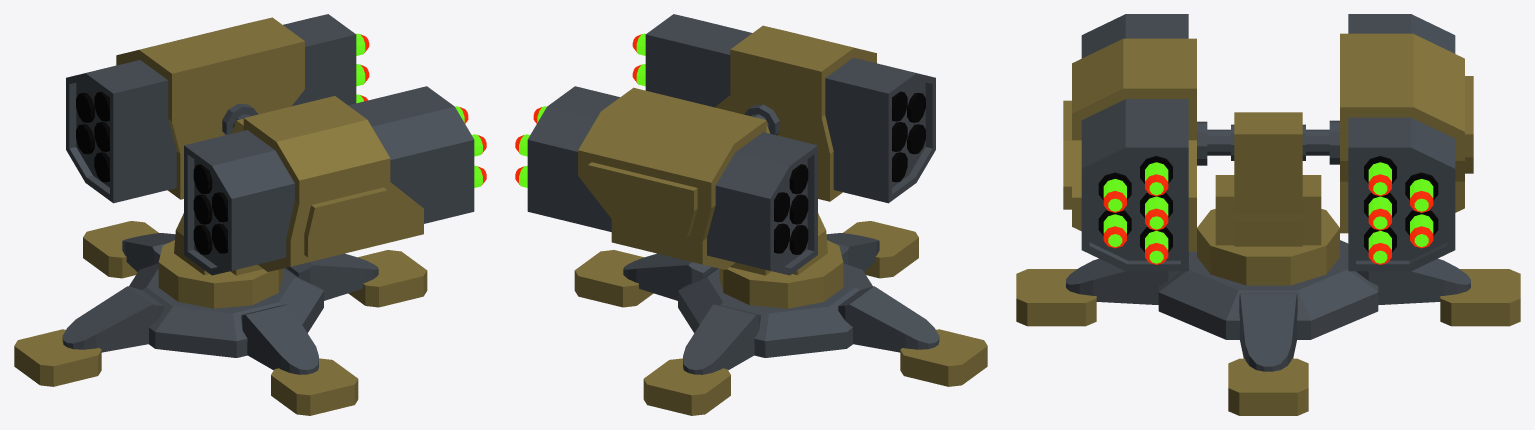
The model's file is rocket.glb.
3 renders of one model, left to right at view 1: azimuth 30°, elevation 25°; view 2: azimuth 150°, elevation 25°; view 3: azimuth 270°, elevation 25°, orthographic. The views are drawn at different scales.
Parts seen in each view (by area): view 1: Cube.009, Cube.006, Cube.008, Cube.010, Plane, Cube.011, Cylinder, Cube.002, Cube.001, Plane.004, Plane.003, Plane.002 (+10 smaller); view 2: Cube.006, Cube.009, Cube.008, Cube.010, Plane, Cube.007, Cylinder, Cube.002, Cube, Plane.001, Plane.003, Plane.002 (+10 smaller); view 3: Cube.009, Cube.006, Cube.008, Cube.010, Plane, Cube.004, Cylinder, Cube.003, Plane.002, Plane.001, Plane.004, Cube (+17 smaller).
Boxes of the visible parts, x1=… form: Cube.009: x1=184, y1=86, x2=474, y2=275; Cube.006: x1=66, y1=14, x2=356, y2=203; Cube.008: x1=116, y1=17, x2=304, y2=199; Cube.010: x1=243, y1=96, x2=423, y2=271; Plane: x1=129, y1=263, x2=323, y2=357; Cube.011: x1=304, y1=187, x2=413, y2=257; Cylinder: x1=158, y1=240, x2=282, y2=308; Cube.002: x1=62, y1=286, x2=163, y2=352; Cube.001: x1=241, y1=304, x2=318, y2=374; Plane.004: x1=271, y1=358, x2=358, y2=415; Plane.003: x1=14, y1=329, x2=101, y2=386; Plane.002: x1=348, y1=250, x2=427, y2=307; Cube.006: x1=527, y1=86, x2=817, y2=275; Cube.009: x1=645, y1=14, x2=935, y2=203; Cube.008: x1=578, y1=87, x2=766, y2=269; Cube.010: x1=715, y1=25, x2=876, y2=201; Plane: x1=678, y1=263, x2=872, y2=357; Cube.007: x1=588, y1=162, x2=697, y2=236; Cylinder: x1=719, y1=240, x2=843, y2=308; Cube.002: x1=838, y1=286, x2=939, y2=352; Cube: x1=683, y1=304, x2=760, y2=374; Plane.001: x1=643, y1=358, x2=730, y2=415; Plane.003: x1=900, y1=329, x2=987, y2=386; Plane.002: x1=574, y1=250, x2=653, y2=307; Cube.009: x1=1081, y1=14, x2=1188, y2=271; Cube.006: x1=1348, y1=14, x2=1455, y2=271; Cube.008: x1=1340, y1=33, x2=1464, y2=233; Cube.010: x1=1072, y1=38, x2=1196, y2=251; Plane: x1=1158, y1=240, x2=1378, y2=339; Cube.004: x1=1234, y1=112, x2=1302, y2=246; Cylinder: x1=1197, y1=209, x2=1339, y2=285; Cube.003: x1=1239, y1=293, x2=1297, y2=371; Plane.002: x1=1228, y1=358, x2=1308, y2=415; Plane.001: x1=1440, y1=269, x2=1520, y2=326; Plane.004: x1=1016, y1=269, x2=1096, y2=326; Cube: x1=1356, y1=258, x2=1470, y2=304.
Size of the model in its own units: 2.87 by 1.66 by 2.86.
